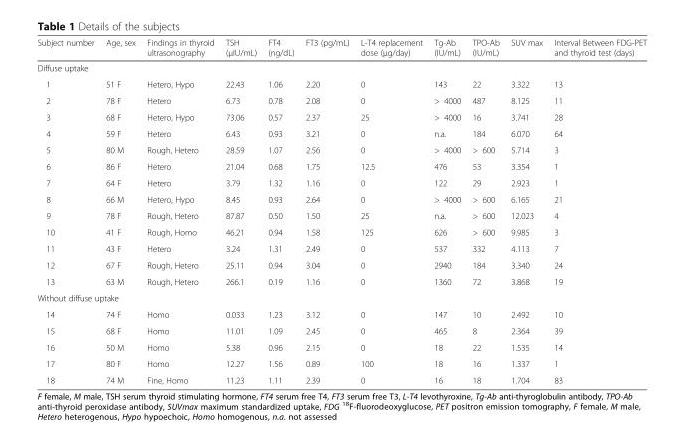table: (36, 37, 646, 384)
table column: (547, 37, 646, 384), (140, 37, 219, 384), (354, 37, 427, 384), (36, 37, 99, 384), (299, 37, 354, 384), (504, 37, 547, 384), (219, 37, 261, 384), (99, 37, 140, 384), (465, 37, 504, 384), (261, 37, 299, 384), (427, 37, 465, 384)
table column header: (36, 37, 646, 59)
table projected row header: (36, 59, 646, 75), (36, 289, 646, 305)
table row: (36, 37, 646, 59), (36, 75, 646, 92), (36, 108, 646, 125), (36, 157, 646, 174), (36, 190, 646, 207), (36, 223, 646, 240), (36, 272, 646, 289), (36, 305, 646, 322), (36, 338, 646, 355), (36, 59, 646, 75), (36, 92, 646, 108), (36, 125, 646, 141), (36, 141, 646, 157), (36, 174, 646, 190), (36, 207, 646, 223), (36, 240, 646, 256), (36, 256, 646, 272), (36, 289, 646, 305), (36, 322, 646, 338), (36, 355, 646, 371), (36, 371, 646, 384)
